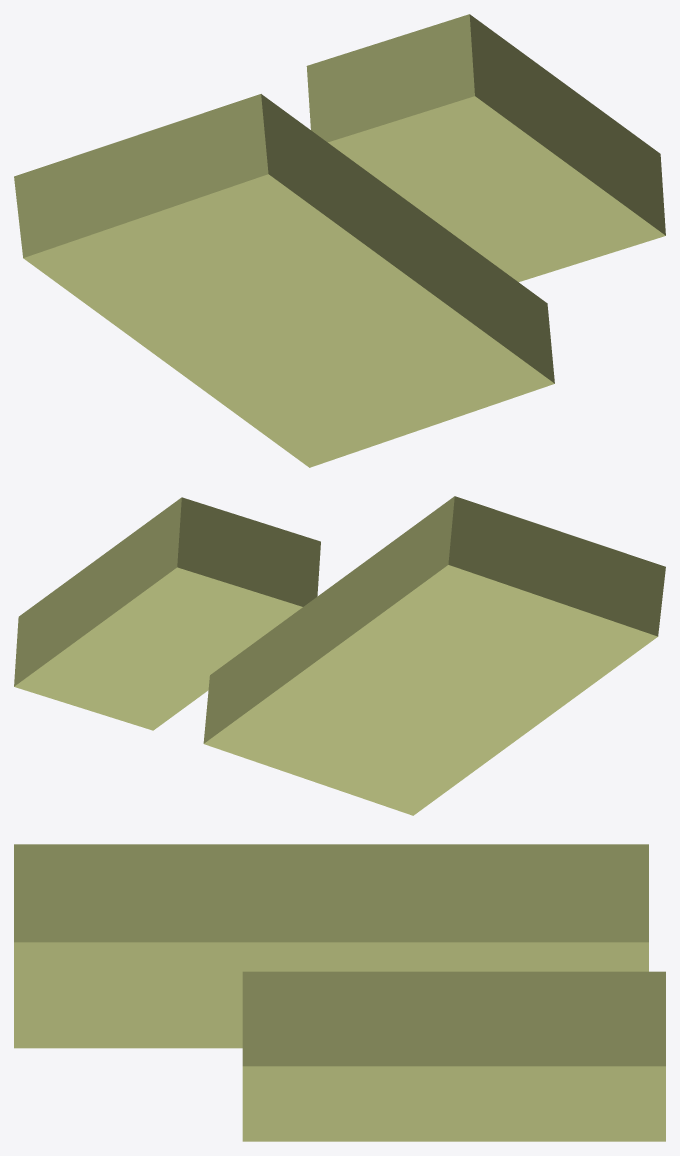
3 views of the same model, one above another, from view 1: azimuth 30°, elevation 25°; view 2: azimuth 150°, elevation 25°; view 3: azimuth 270°, elevation 25° (orthographic). The views are drawn at different scales.
Visible parts, largest first — view 1: 0_2_3_3_3_1_0_2_0_3_2; view 2: 0_2_3_3_3_1_0_2_0_3_2; view 3: 0_2_3_3_3_1_0_2_0_3_2.
Part boxes in pixels (x1,y1,x2,y2): 0_2_3_3_3_1_0_2_0_3_2: [14, 14, 665, 467]; 0_2_3_3_3_1_0_2_0_3_2: [14, 496, 665, 815]; 0_2_3_3_3_1_0_2_0_3_2: [14, 844, 665, 1141].
Bounding box in the file's own units: 8.5 × 2.21 × 9.24.
